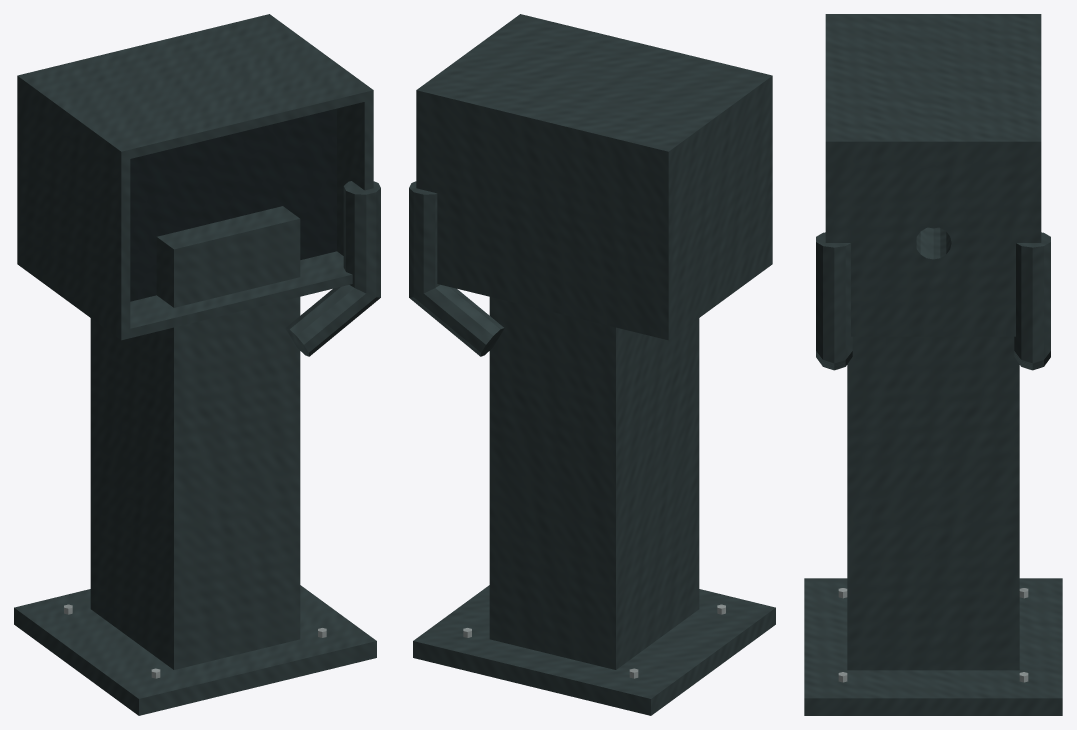
The picture shows the model from 3 angles, left to right: view 1: azimuth 30°, elevation 25°; view 2: azimuth 150°, elevation 25°; view 3: azimuth 270°, elevation 25°; orthographic projection. The views are drawn at different scales.
Visible parts, largest first — view 1: B026-08_frame_iron, B026-08_housing_iron, B026-08_display_dark, B026-08_base_iron; view 2: B026-08_housing_iron, B026-08_frame_iron, B026-08_base_iron; view 3: B026-08_frame_iron, B026-08_housing_iron, B026-08_base_iron.
Part boxes in pixels (x1=…): B026-08_frame_iron: x1=90, y1=181, x2=380, y2=669; B026-08_housing_iron: x1=17, y1=14, x2=373, y2=340; B026-08_display_dark: x1=130, y1=108, x2=336, y2=301; B026-08_base_iron: x1=14, y1=585, x2=376, y2=715; B026-08_housing_iron: x1=416, y1=14, x2=772, y2=340; B026-08_frame_iron: x1=409, y1=181, x2=699, y2=669; B026-08_base_iron: x1=413, y1=585, x2=775, y2=715; B026-08_frame_iron: x1=816, y1=214, x2=1050, y2=670; B026-08_housing_iron: x1=825, y1=14, x2=1041, y2=336; B026-08_base_iron: x1=804, y1=578, x2=1062, y2=715.
Bounding box in the file's own units: 0.725 × 1.48 × 0.6.
Materials: 3 (3 with a texture image).
